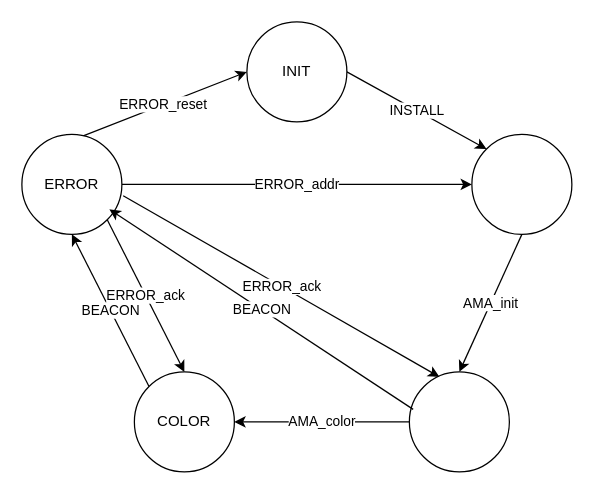
Image size: 594x494. Some labels were removed from this diagram. Here are the shapes that lost their labels. From the top down, the box of each, then its label:
(471, 133, 572, 234): CONF
(408, 371, 509, 472): ADDR
